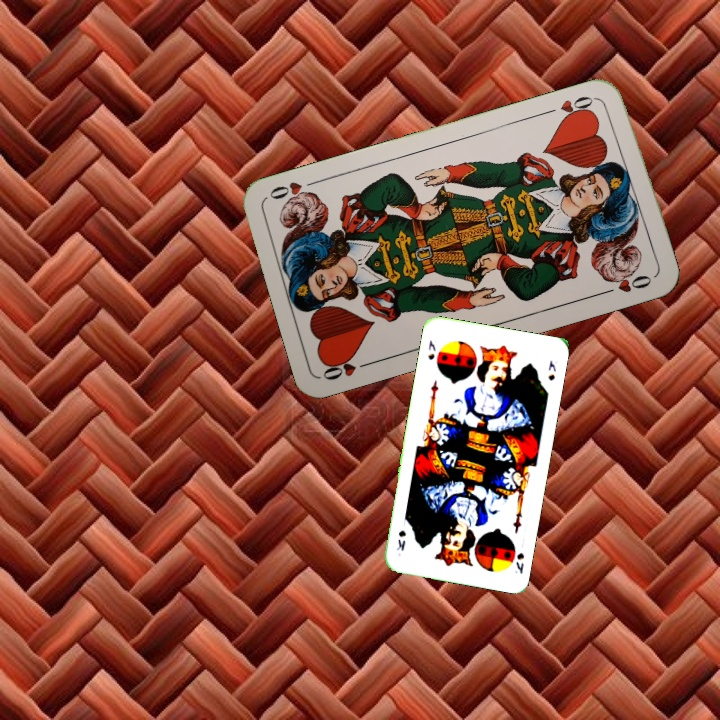HO: (543, 92, 601, 124), (318, 352, 377, 383)
SK: (511, 549, 527, 576), (424, 336, 438, 363)
